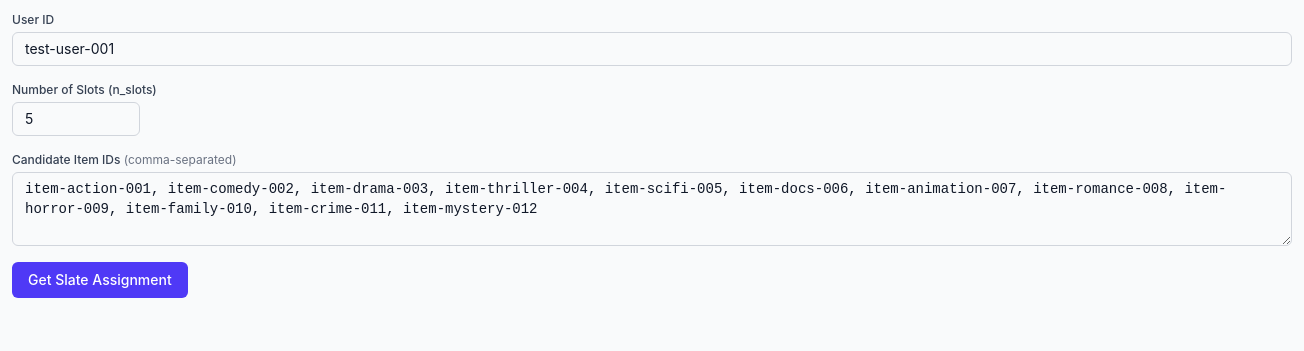
SlateAssignmentForm › shows error when n_slots exceeds candidates
Replace the text in the number field labelled "Number of Slots (n_slots)" with "20" at (76, 119), box [12,102,140,136]
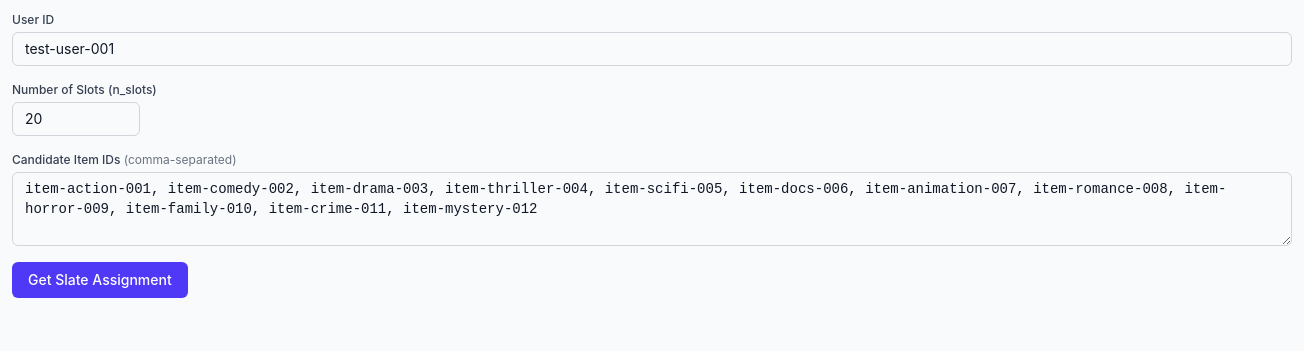
Replace the text in the text box labelled "Candidate Item IDs (comma-separated)" with "item-a, item-b" at (652, 209), box [12,172,1292,246]
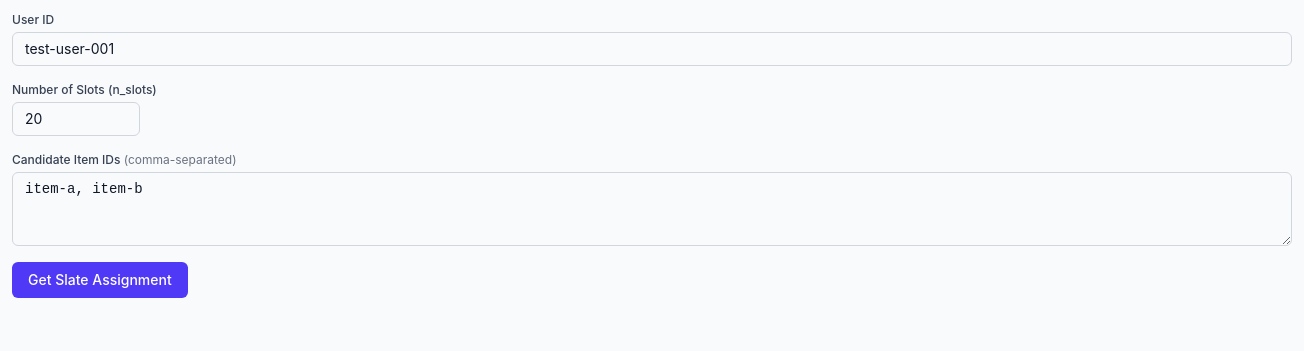
Click the button "Get Slate Assignment".
click(100, 280)  # box [12,262,188,298]
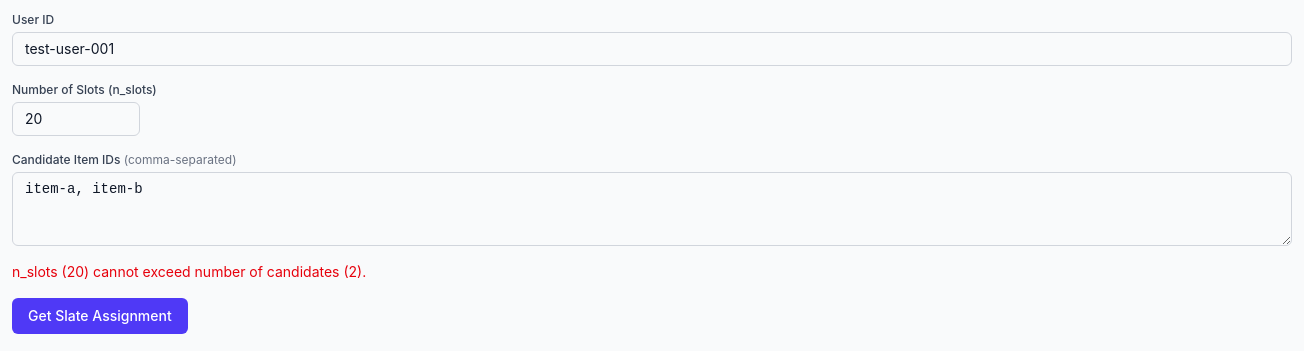
Result: the message reads "n_slots (20) cannot exceed number of candidates (2)." at [12,263,366,280]
